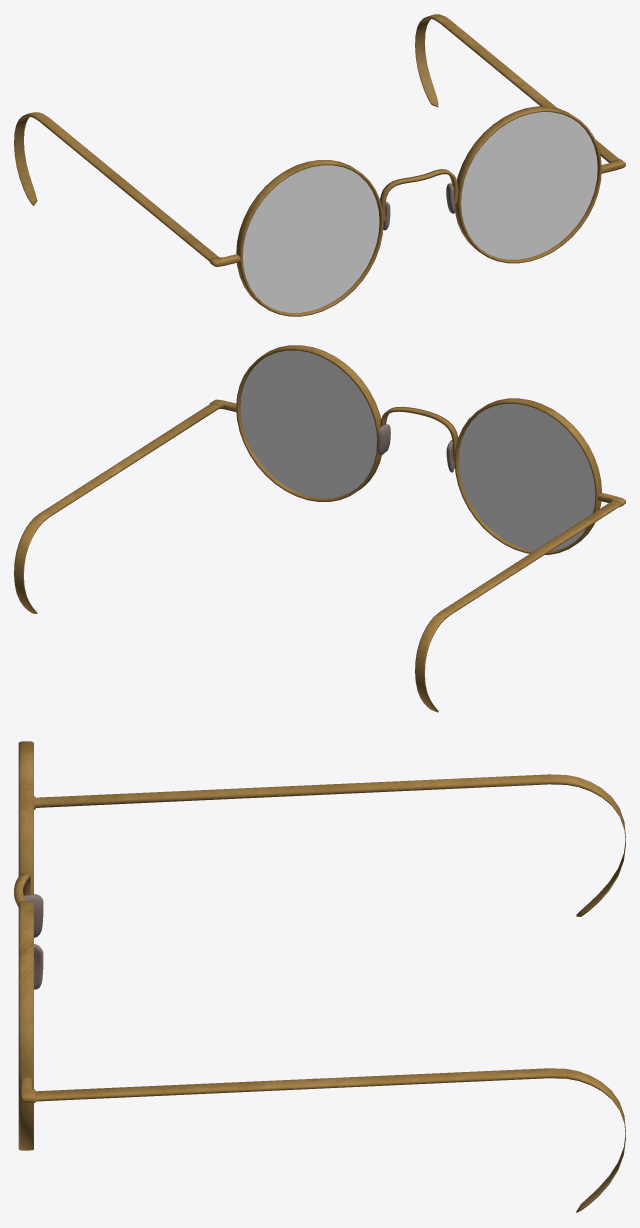
File: spectacles_01.fbx
3 renders of one model, top to bottom at view 1: azimuth 30°, elevation 25°; view 2: azimuth 150°, elevation 25°; view 3: azimuth 270°, elevation 25°, orthographic. The views are drawn at different scales.
Parts seen in each view (by area): view 1: spectacles_01; view 2: spectacles_01; view 3: spectacles_01.
Boxes of the visible parts, x1,y1,x2,y2 form: spectacles_01: [14, 14, 625, 316]; spectacles_01: [14, 345, 625, 712]; spectacles_01: [14, 741, 625, 1212].
Bounding box in the file's own units: 28.2 × 10.11 × 24.16.
